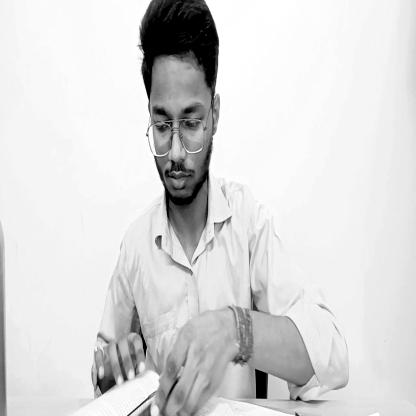Normal: (139, 3, 223, 213)
